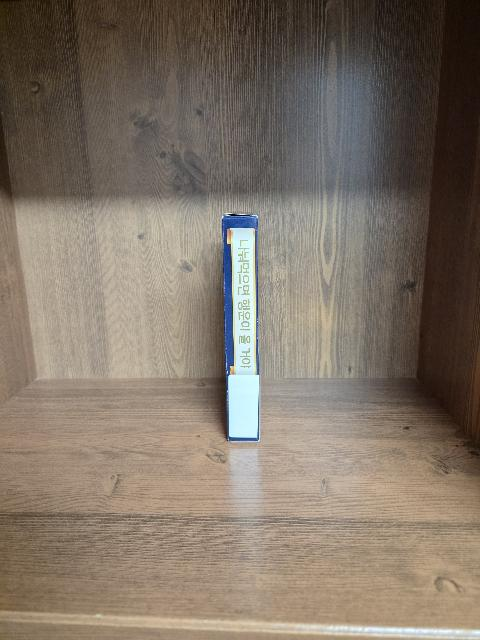pepero: (221, 213, 261, 442)
